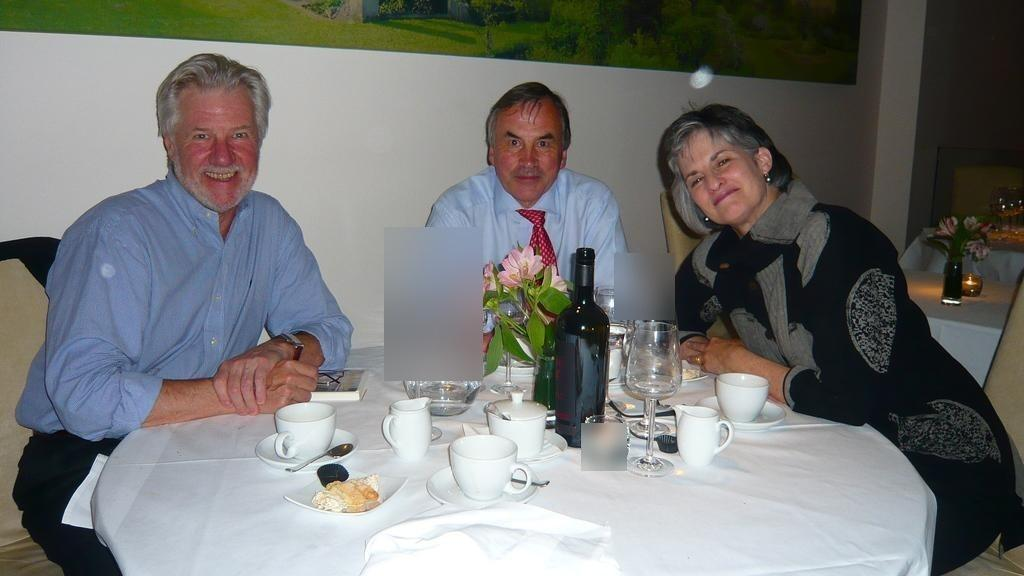bottle-glass: (555, 247, 611, 447)
cup-handle: (449, 434, 532, 500), (274, 402, 336, 458), (715, 372, 772, 422)
glass-wine: (626, 326, 682, 478), (491, 285, 527, 395)
